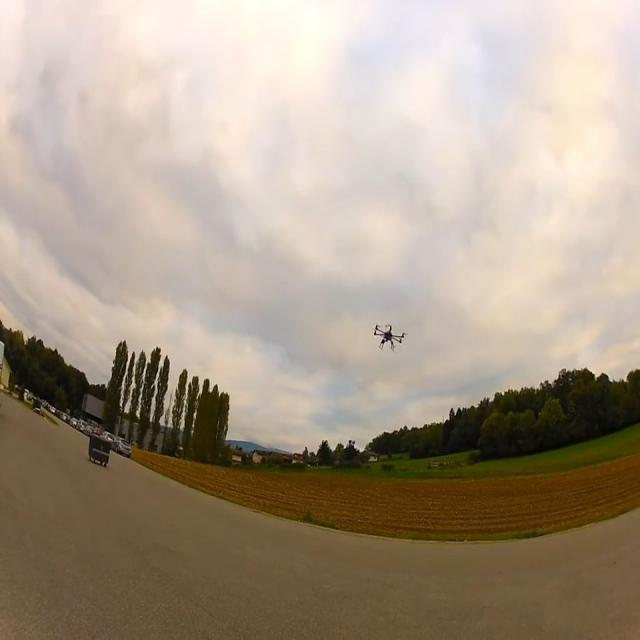drone: (373, 323, 406, 351)
